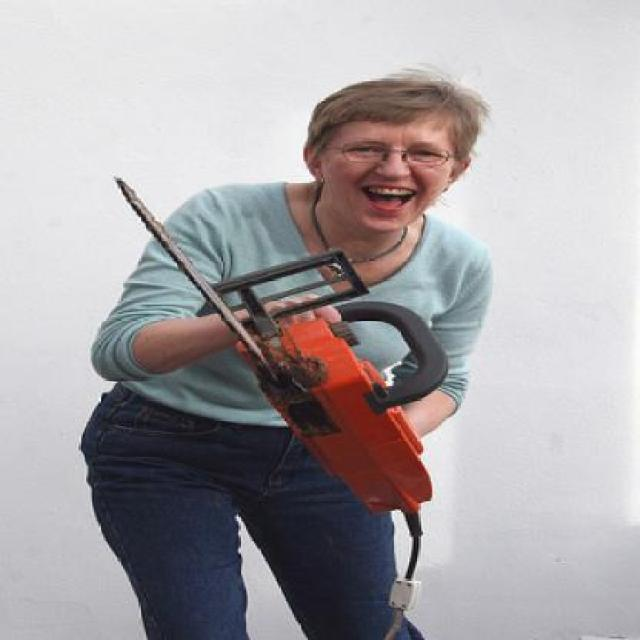Chainsaw: (109, 175, 449, 640)
